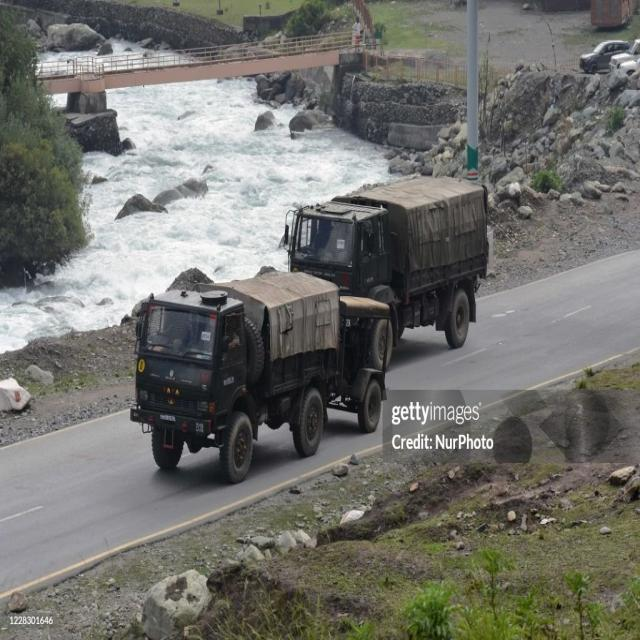military-plate: (222, 373, 236, 389), (158, 413, 178, 424), (362, 274, 374, 287)
unit number: (195, 420, 204, 434)
